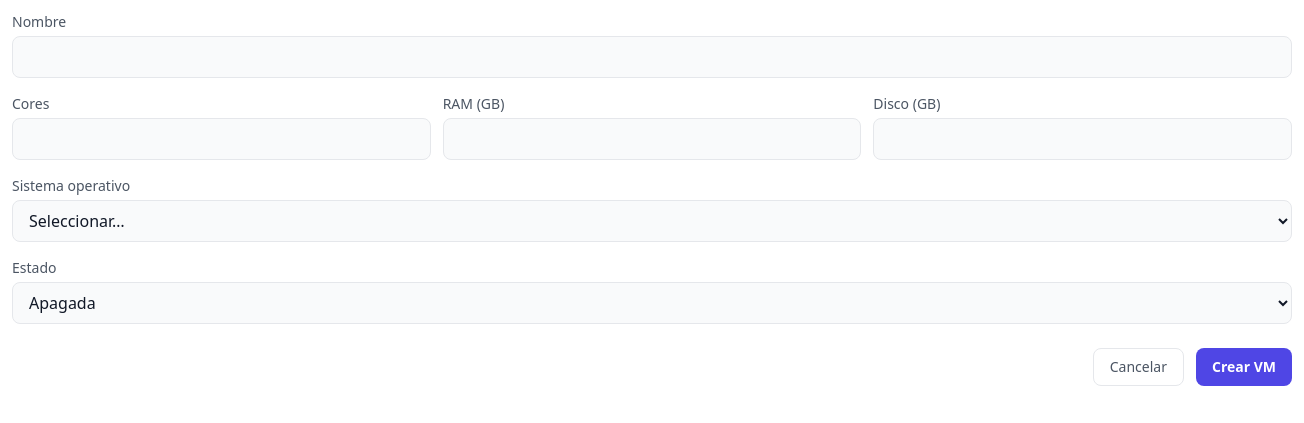
Test: VMForm — validaciones (SDD §14.2) › muestra error cuando el nombre tiene menos de 3 caracteres
In the field labelled "Nombre": (652, 57) [12,36,1292,78], type "ab"
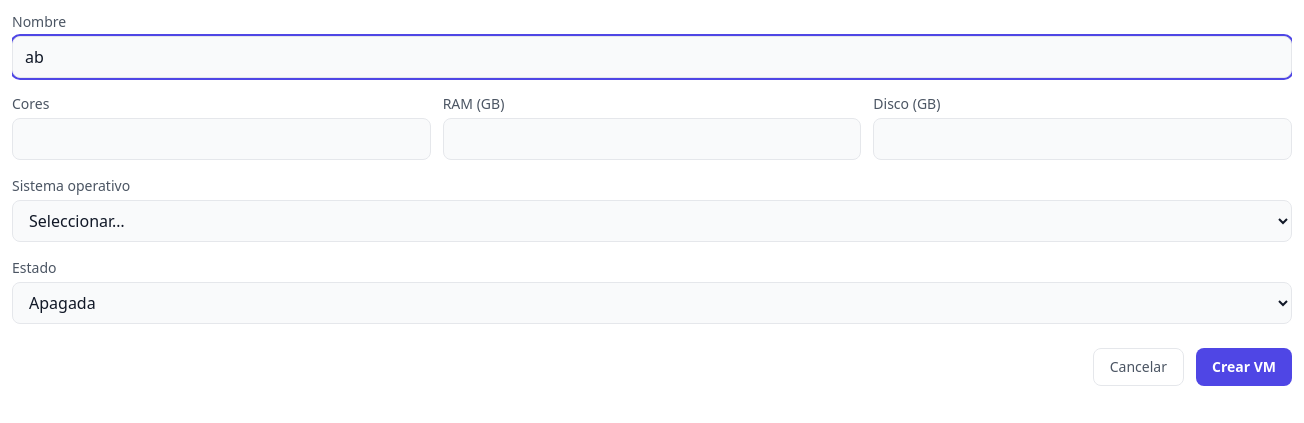
Press Tab
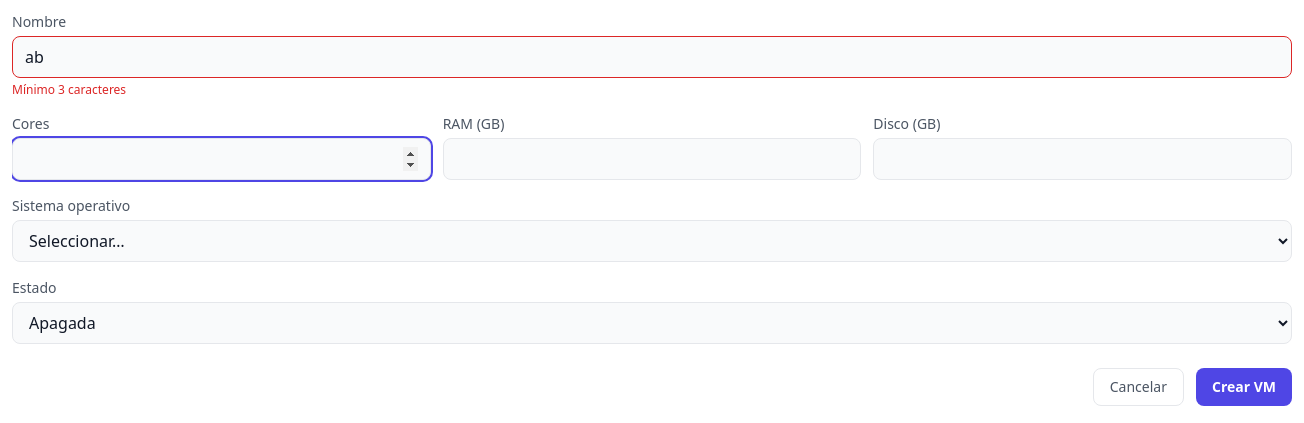
expect the text "Mínimo 3 caracteres" is shown: met, box [12,81,126,98]
